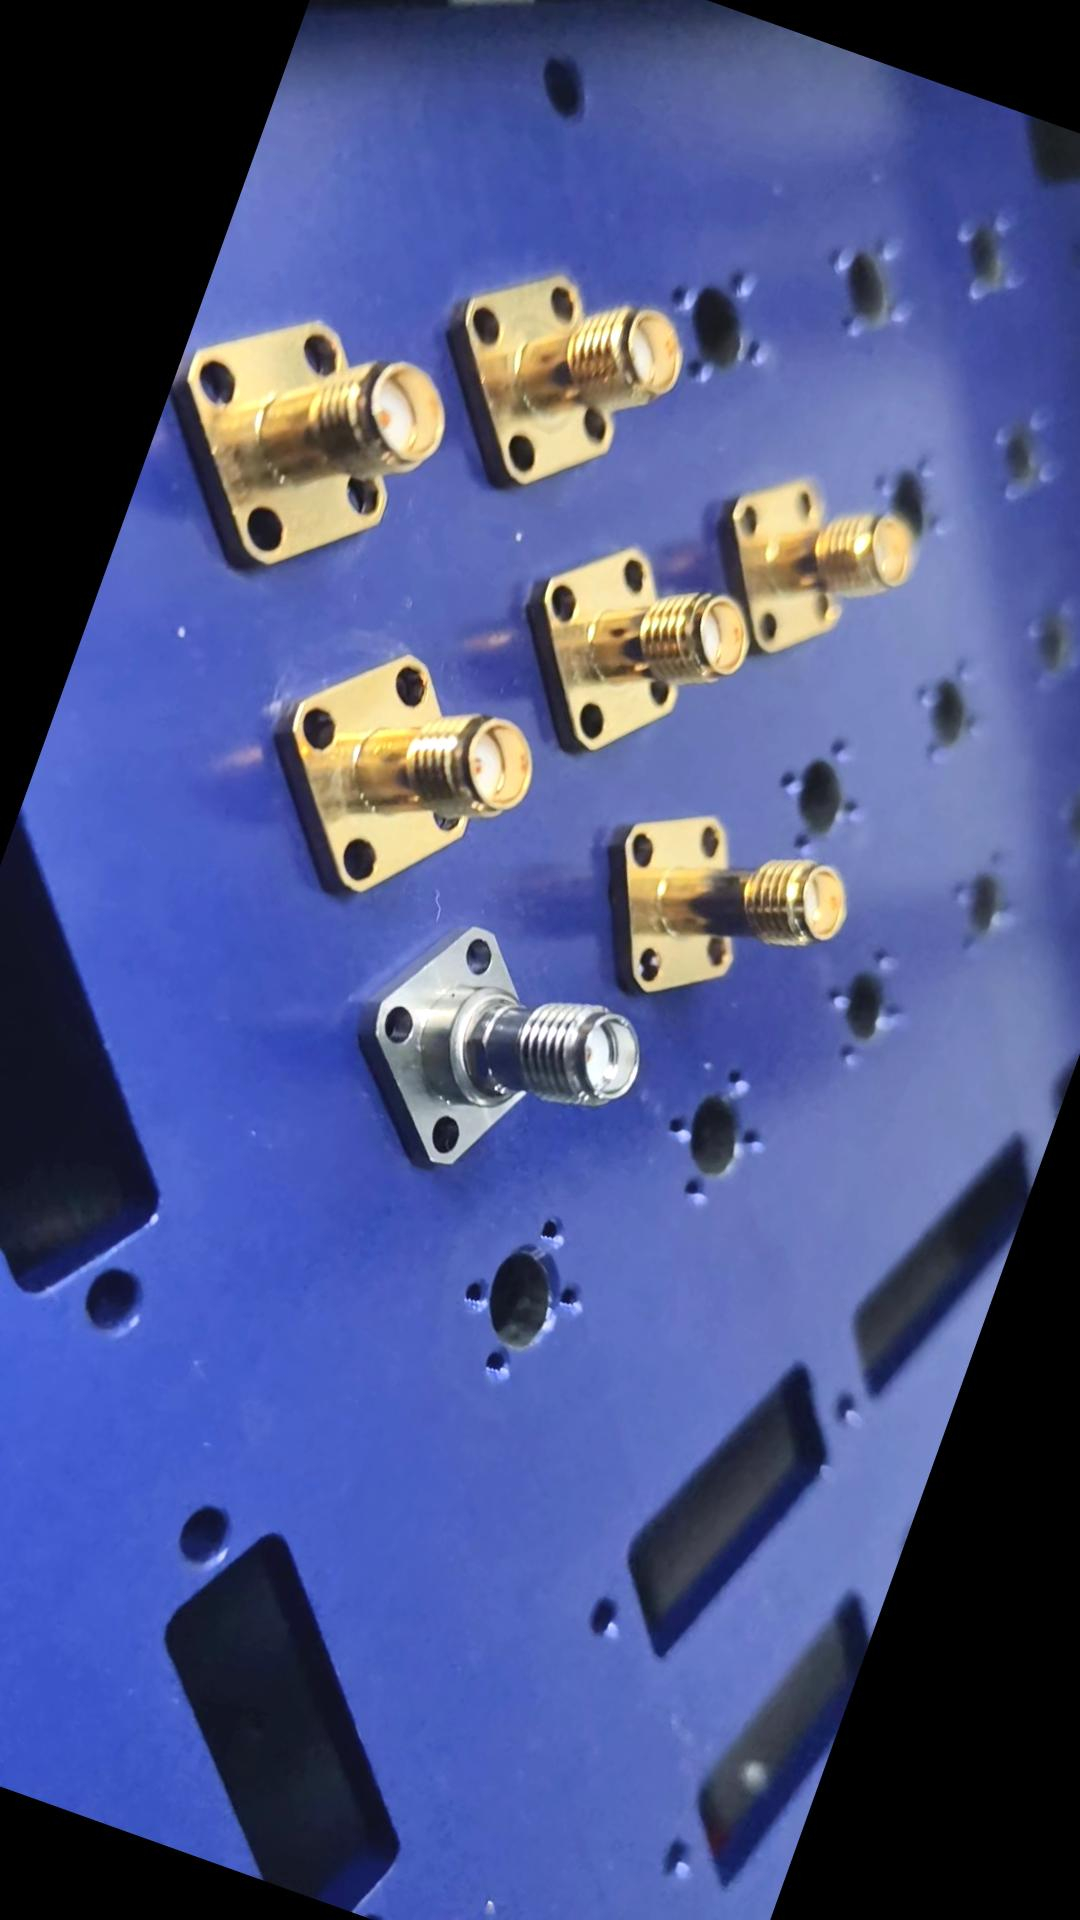SMA: (129, 276, 484, 618), (327, 882, 676, 1218), (232, 607, 560, 936), (407, 224, 702, 529), (579, 774, 876, 1052), (493, 497, 757, 785), (684, 447, 940, 703)
